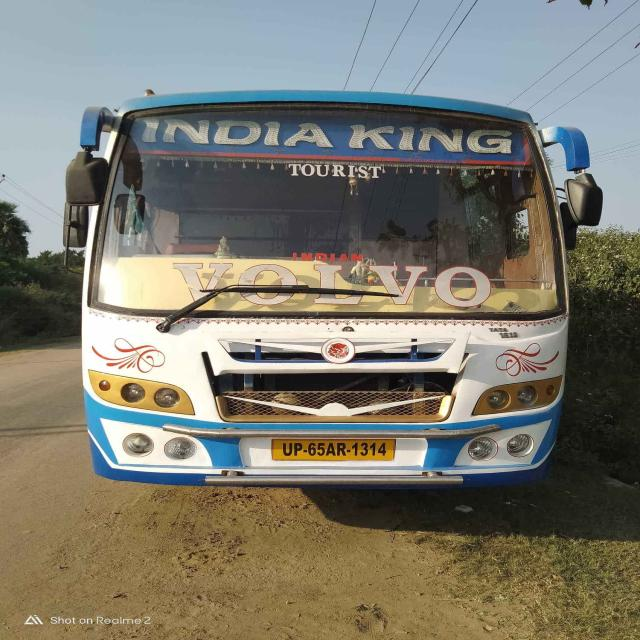bus: (63, 91, 602, 489)
